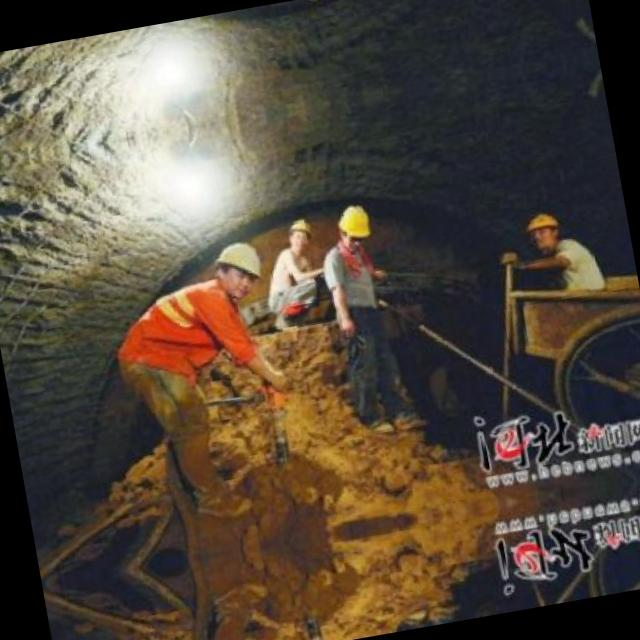helmet: (204, 233, 268, 303), (332, 195, 378, 252), (520, 205, 566, 253), (285, 212, 315, 250)
